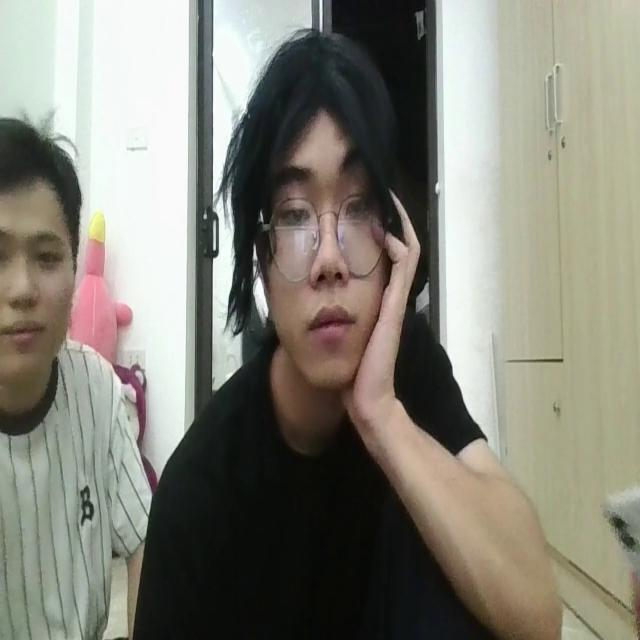extra_person: (0, 107, 158, 619)
student: (141, 30, 560, 640)
